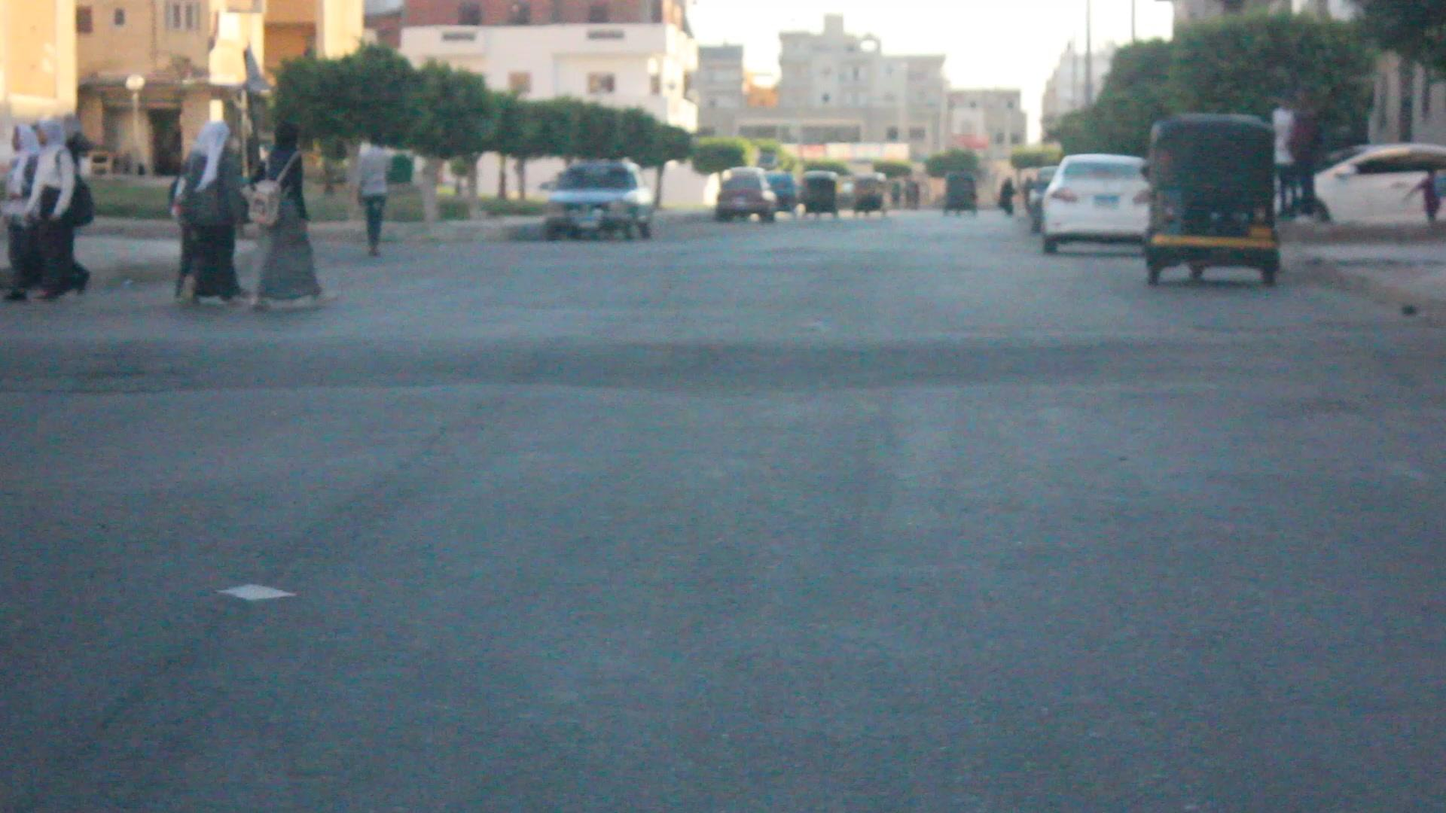Bump: (6, 324, 1444, 386)
